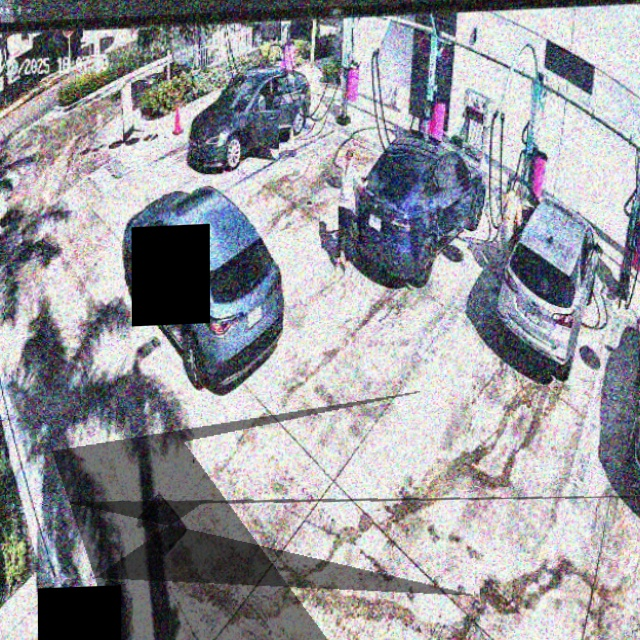Car: (117, 186, 283, 392), (348, 133, 483, 296), (188, 71, 311, 187)
